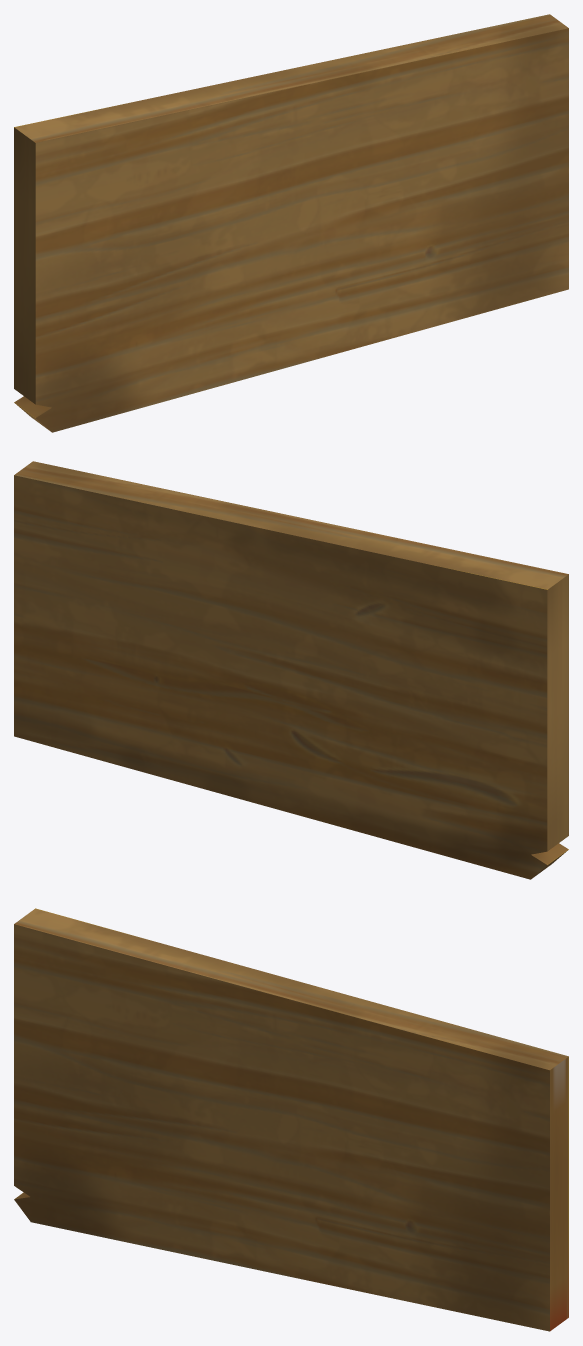
The model's file is CartelCuadrado_MapSelector.fbx.
3 renders of one model, top to bottom at view 1: azimuth 30°, elevation 25°; view 2: azimuth 150°, elevation 25°; view 3: azimuth 330°, elevation 25°, orthographic.
Parts seen in each view (by area): view 1: Cylinder.006; view 2: Cylinder.006; view 3: Cylinder.006.
Boxes of the visible parts, x1=… form: Cylinder.006: x1=14, y1=14, x2=568, y2=432; Cylinder.006: x1=14, y1=461, x2=568, y2=879; Cylinder.006: x1=14, y1=908, x2=568, y2=1331.
Bounding box in the file's own units: 10.86 × 5.7 × 0.7567.
